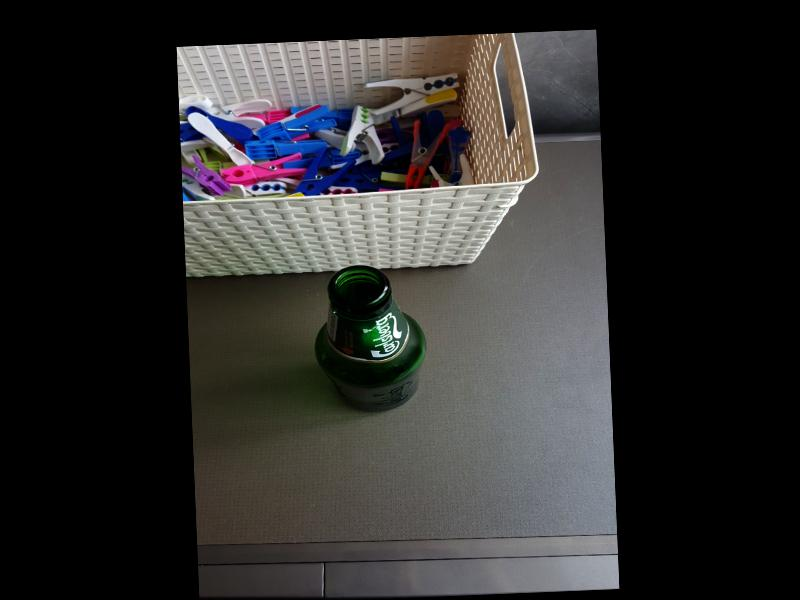Beer: (311, 263, 429, 415)
